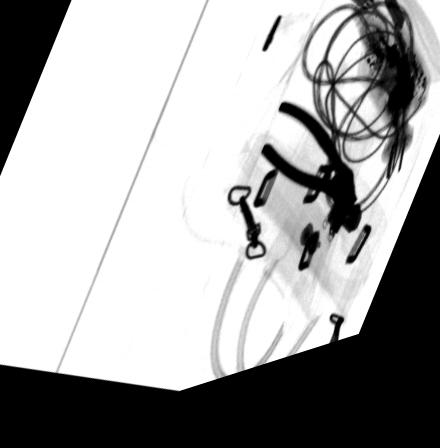Pliers: (259, 117, 362, 257)
